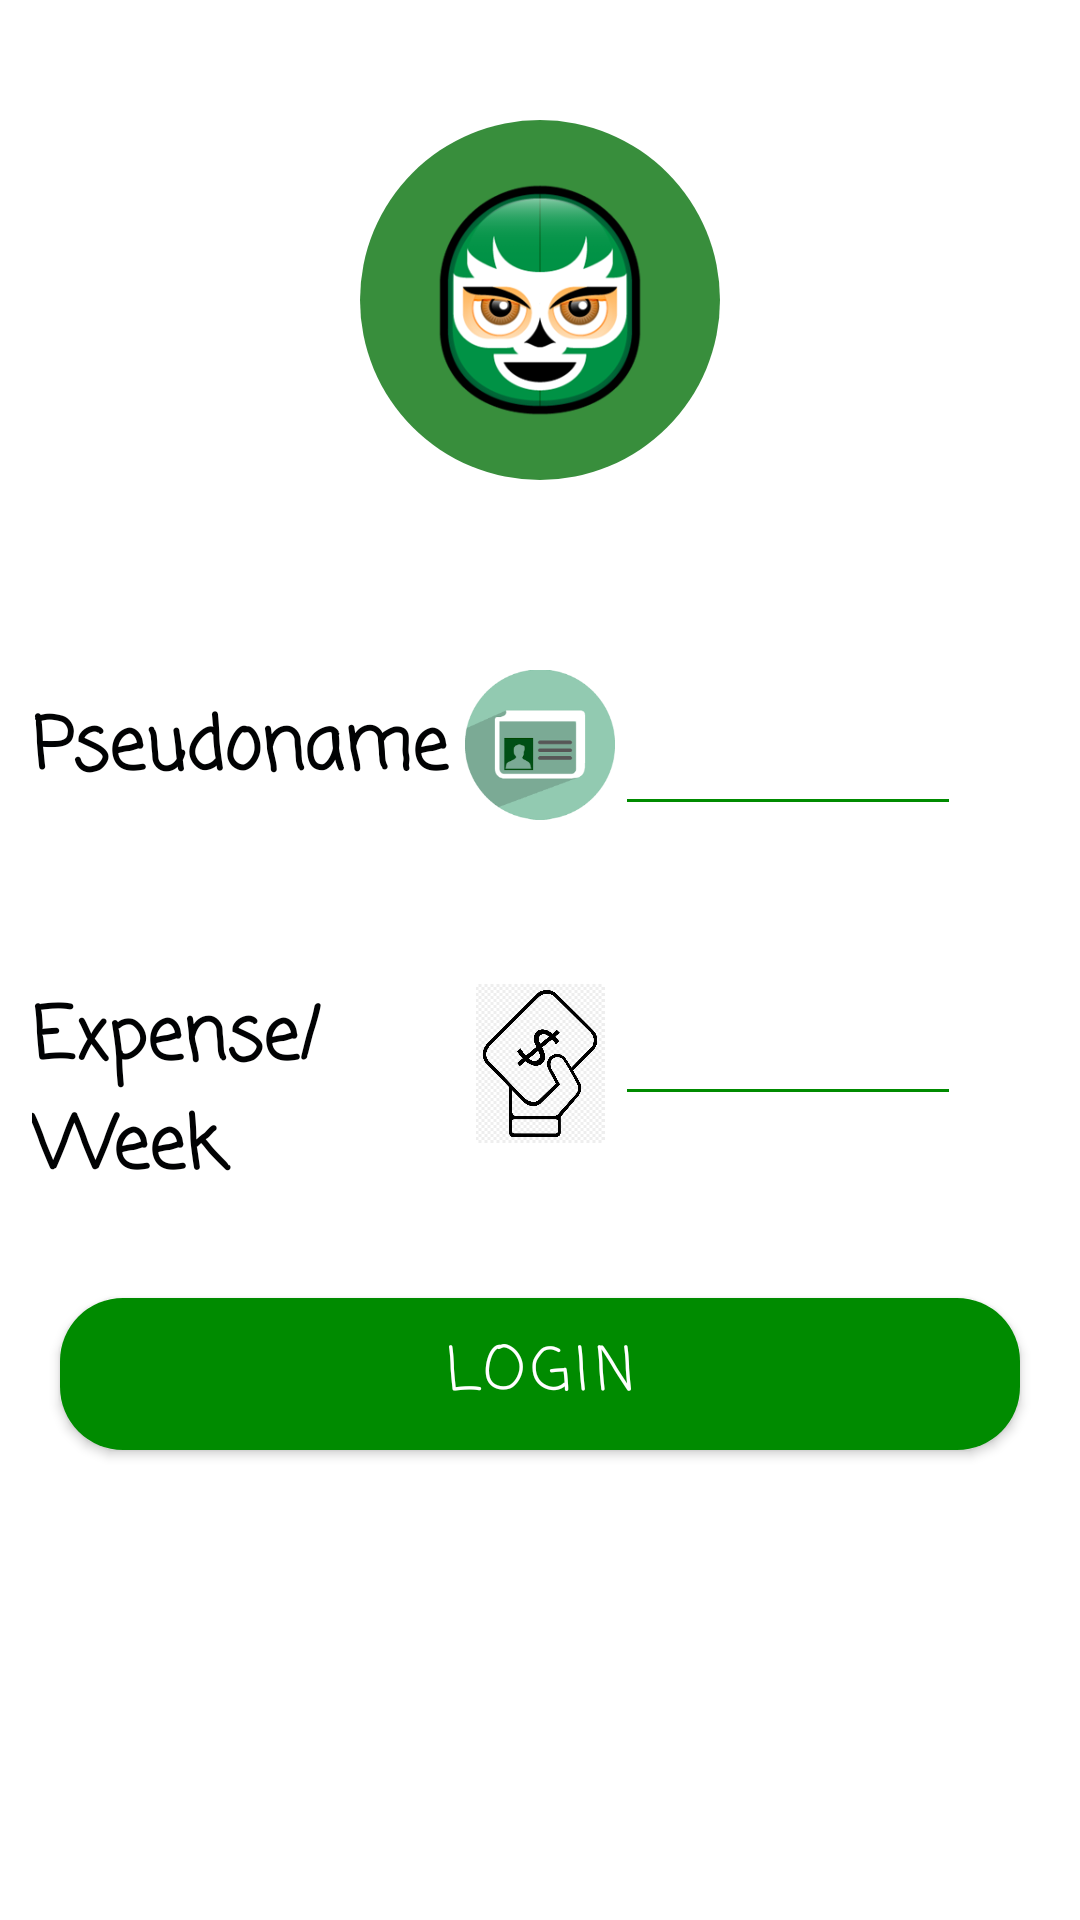

Where to tap for icons on this 1080px×1920px app screen, as [x,y]:
amount: [540,1063]
nom: [540,745]
user: [540,300]
